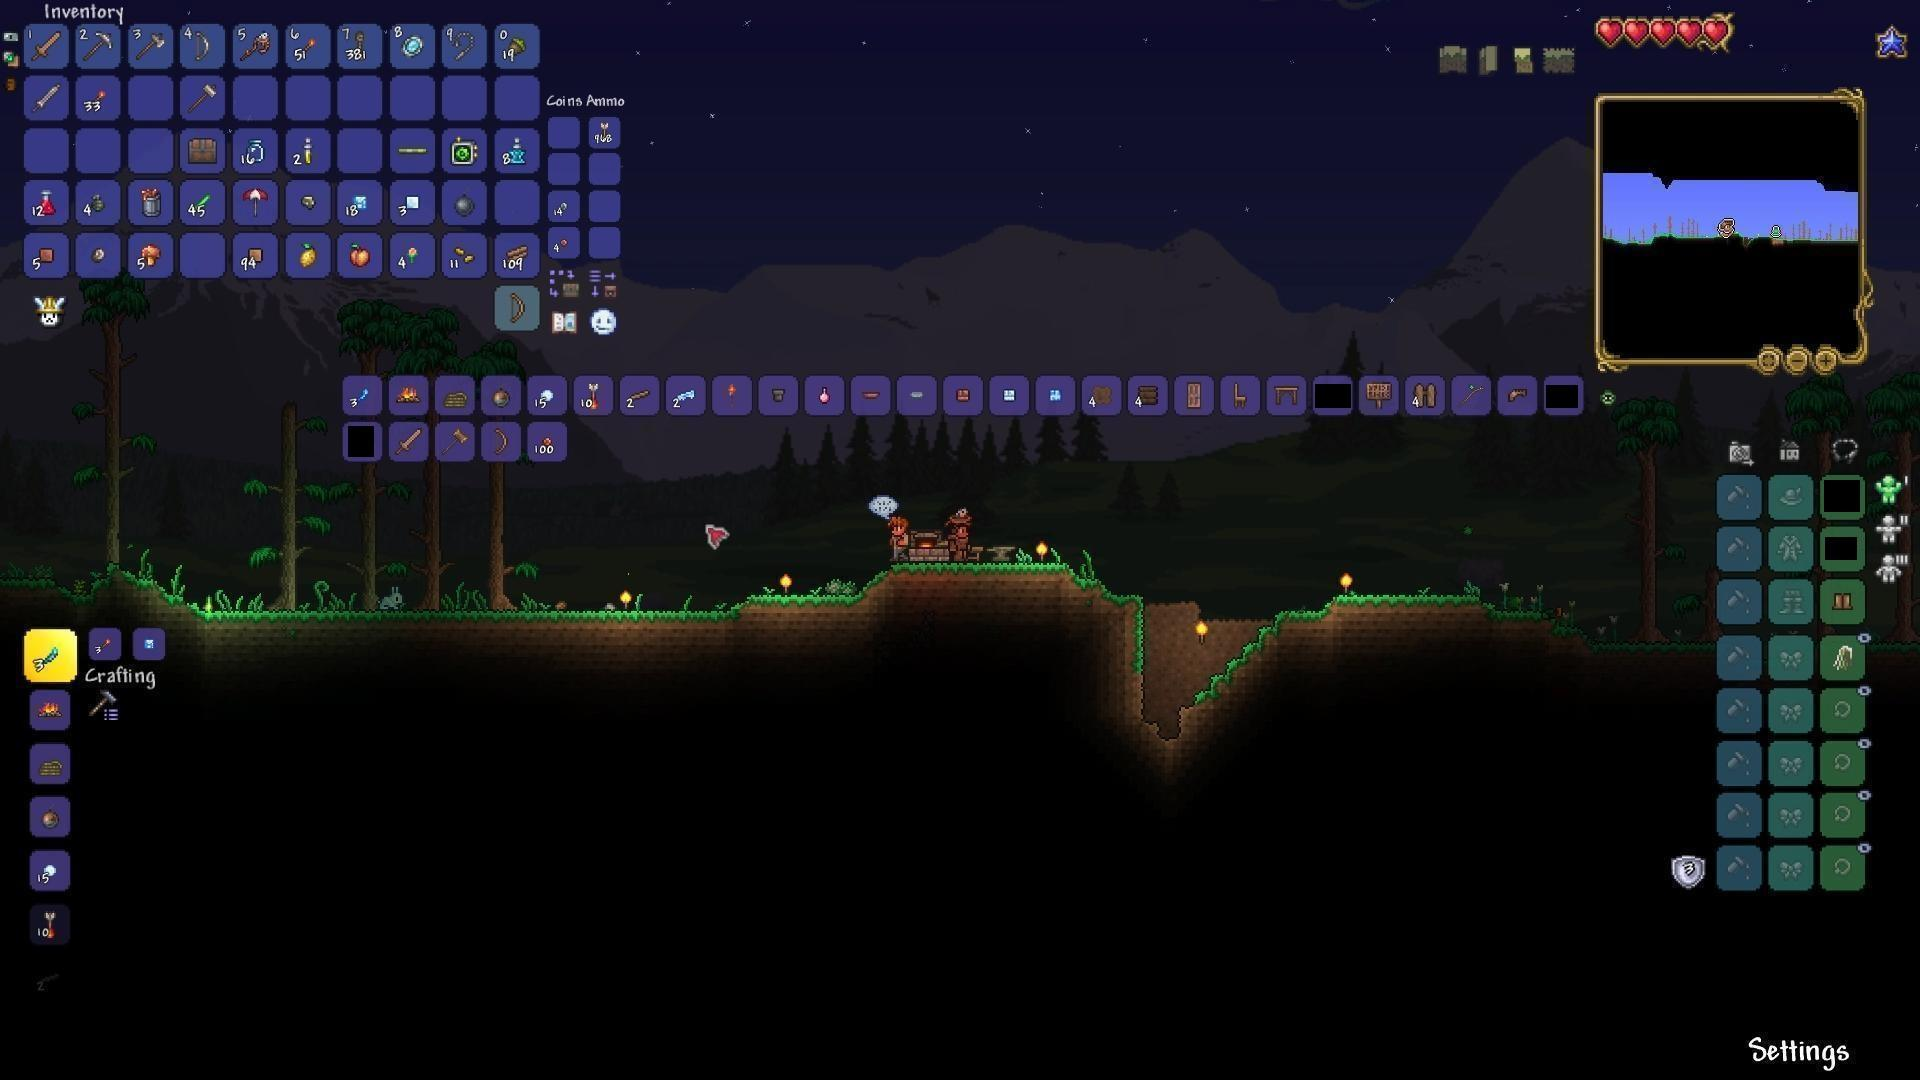helmet: (1501, 381, 1536, 411)
legs: (1830, 588, 1855, 617)
wood: (501, 243, 531, 270)
